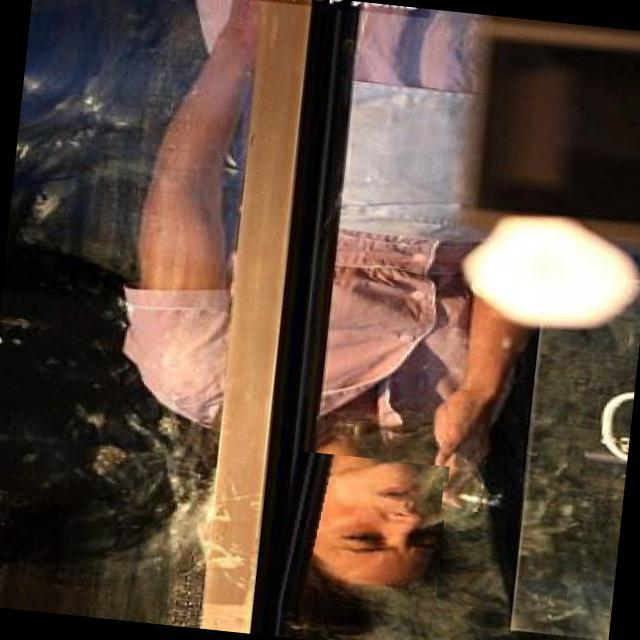cigarette: (442, 486, 514, 516)
